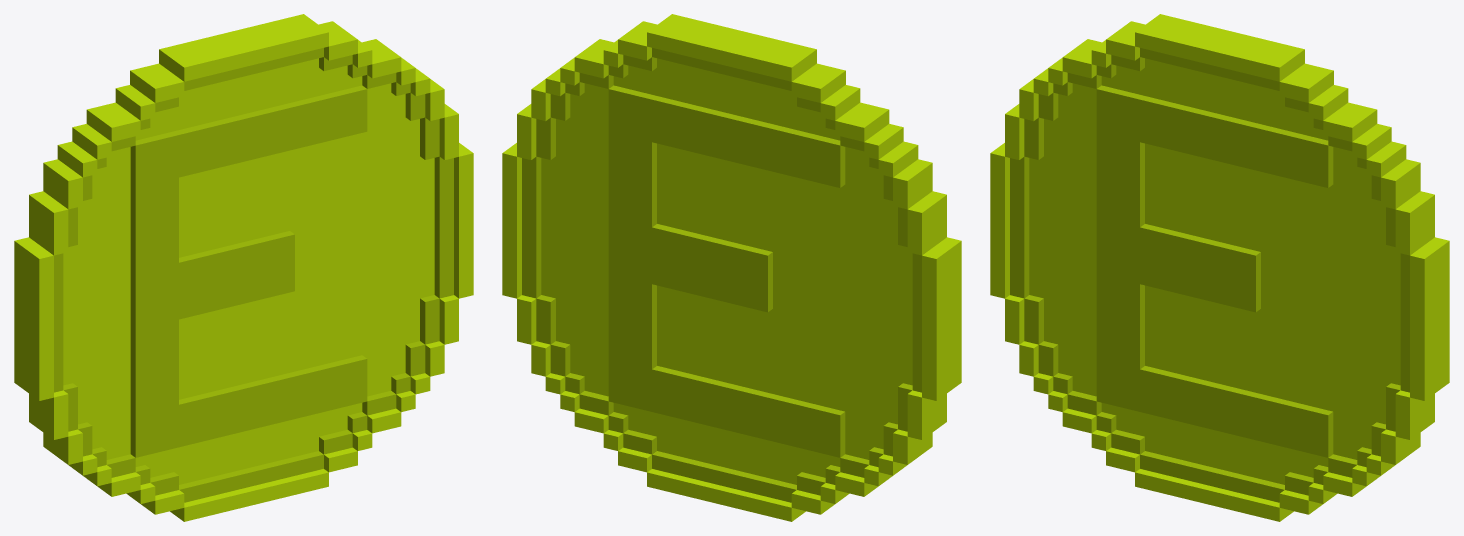
File: Voxel_Coin_E.fbx
3 views of the same model, side by side, from view 1: azimuth 30°, elevation 25°; view 2: azimuth 150°, elevation 25°; view 3: azimuth 330°, elevation 25° (orthographic).
Visible parts, largest first — view 1: Coin E.001; view 2: Coin E.001; view 3: Coin E.001.
Part boxes in pixels (x1,y1,x2,y2): Coin E.001: (14, 14, 473, 521); Coin E.001: (502, 14, 961, 521); Coin E.001: (990, 14, 1449, 521).
Size of the model in its own units: 60.96 by 60.96 by 6.1.
